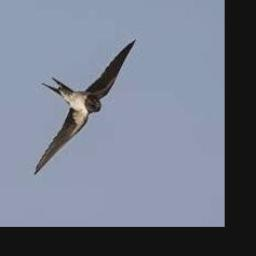Swallow: (32, 38, 136, 176)
